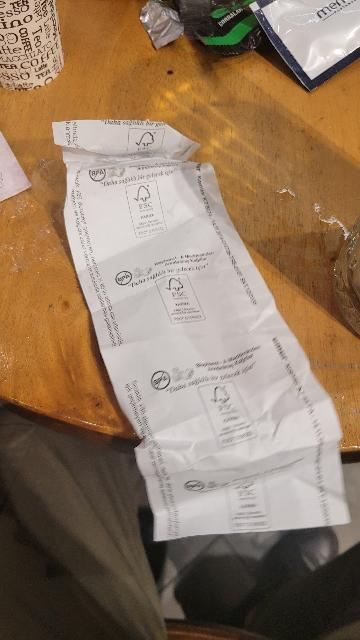Kagit: (52, 121, 347, 542), (0, 4, 60, 91)
Plastik: (249, 0, 360, 95), (173, 0, 257, 55), (135, 2, 183, 52)
